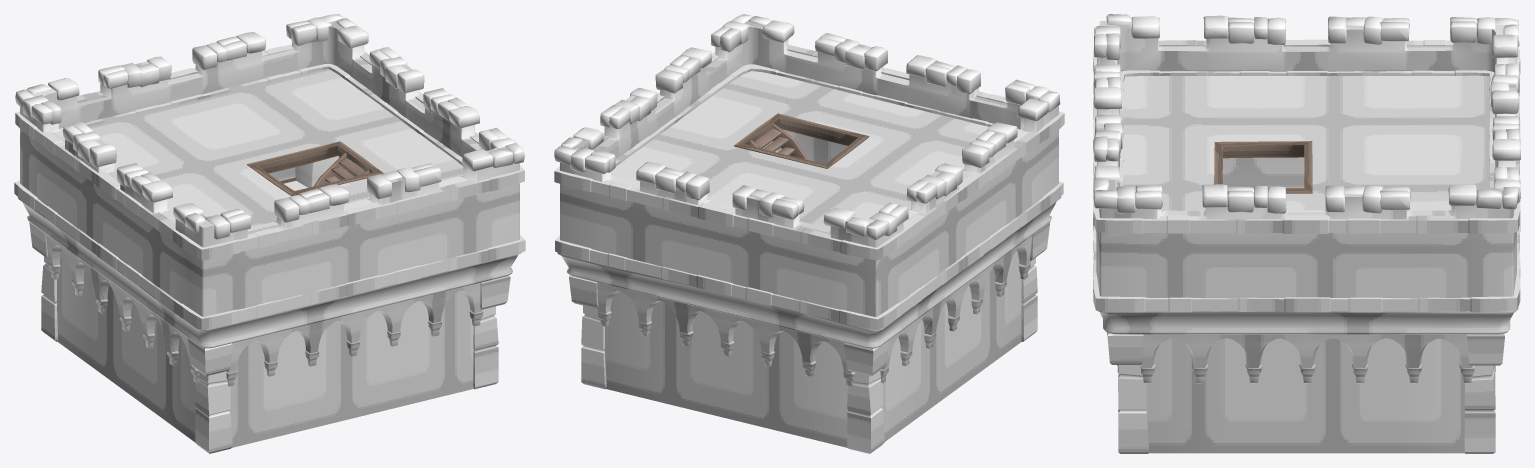
File: SM_TowerE_Top_01.fbx
3 renders of one model, left to right at view 1: azimuth 30°, elevation 25°; view 2: azimuth 150°, elevation 25°; view 3: azimuth 270°, elevation 25°, orthographic. The views are drawn at different scales.
Parts seen in each view (by area): view 1: SM_TowerE_Top_01_LOD0; view 2: SM_TowerE_Top_01_LOD0; view 3: SM_TowerE_Top_01_LOD0.
Boxes of the visible parts, x1,y1,x2,y2 form: SM_TowerE_Top_01_LOD0: (14,14,525,453); SM_TowerE_Top_01_LOD0: (554,14,1064,453); SM_TowerE_Top_01_LOD0: (1093,14,1520,453).
Size of the model in its own units: 1159 by 1156 by 823.
